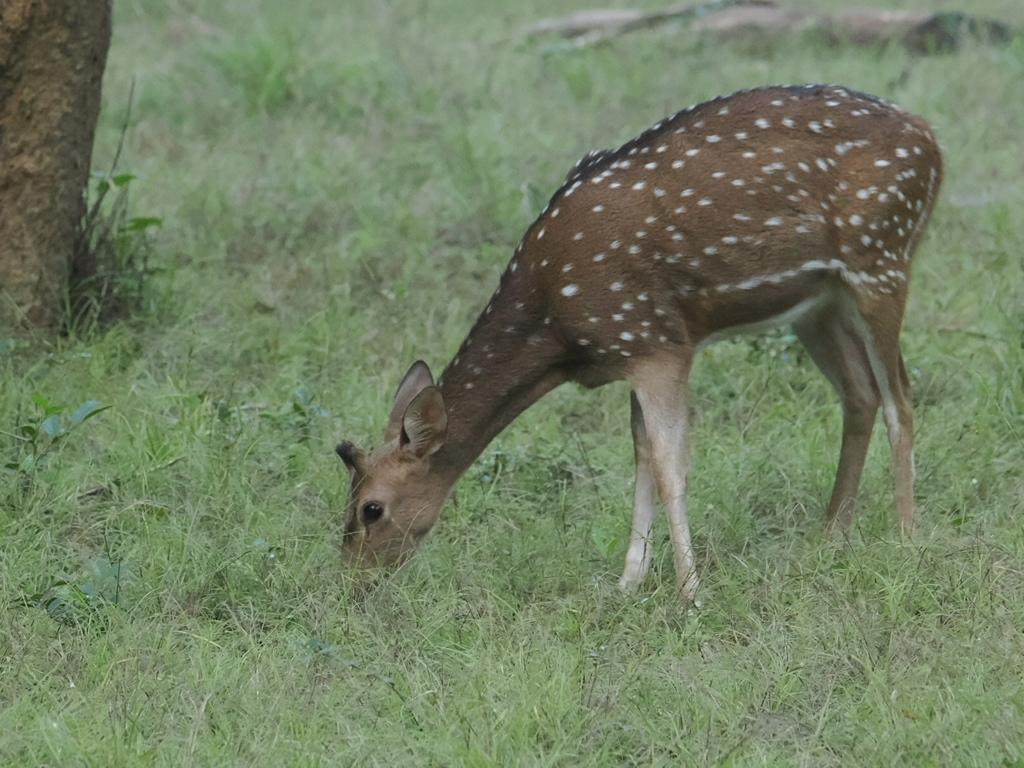Deer: (336, 85, 943, 600)
